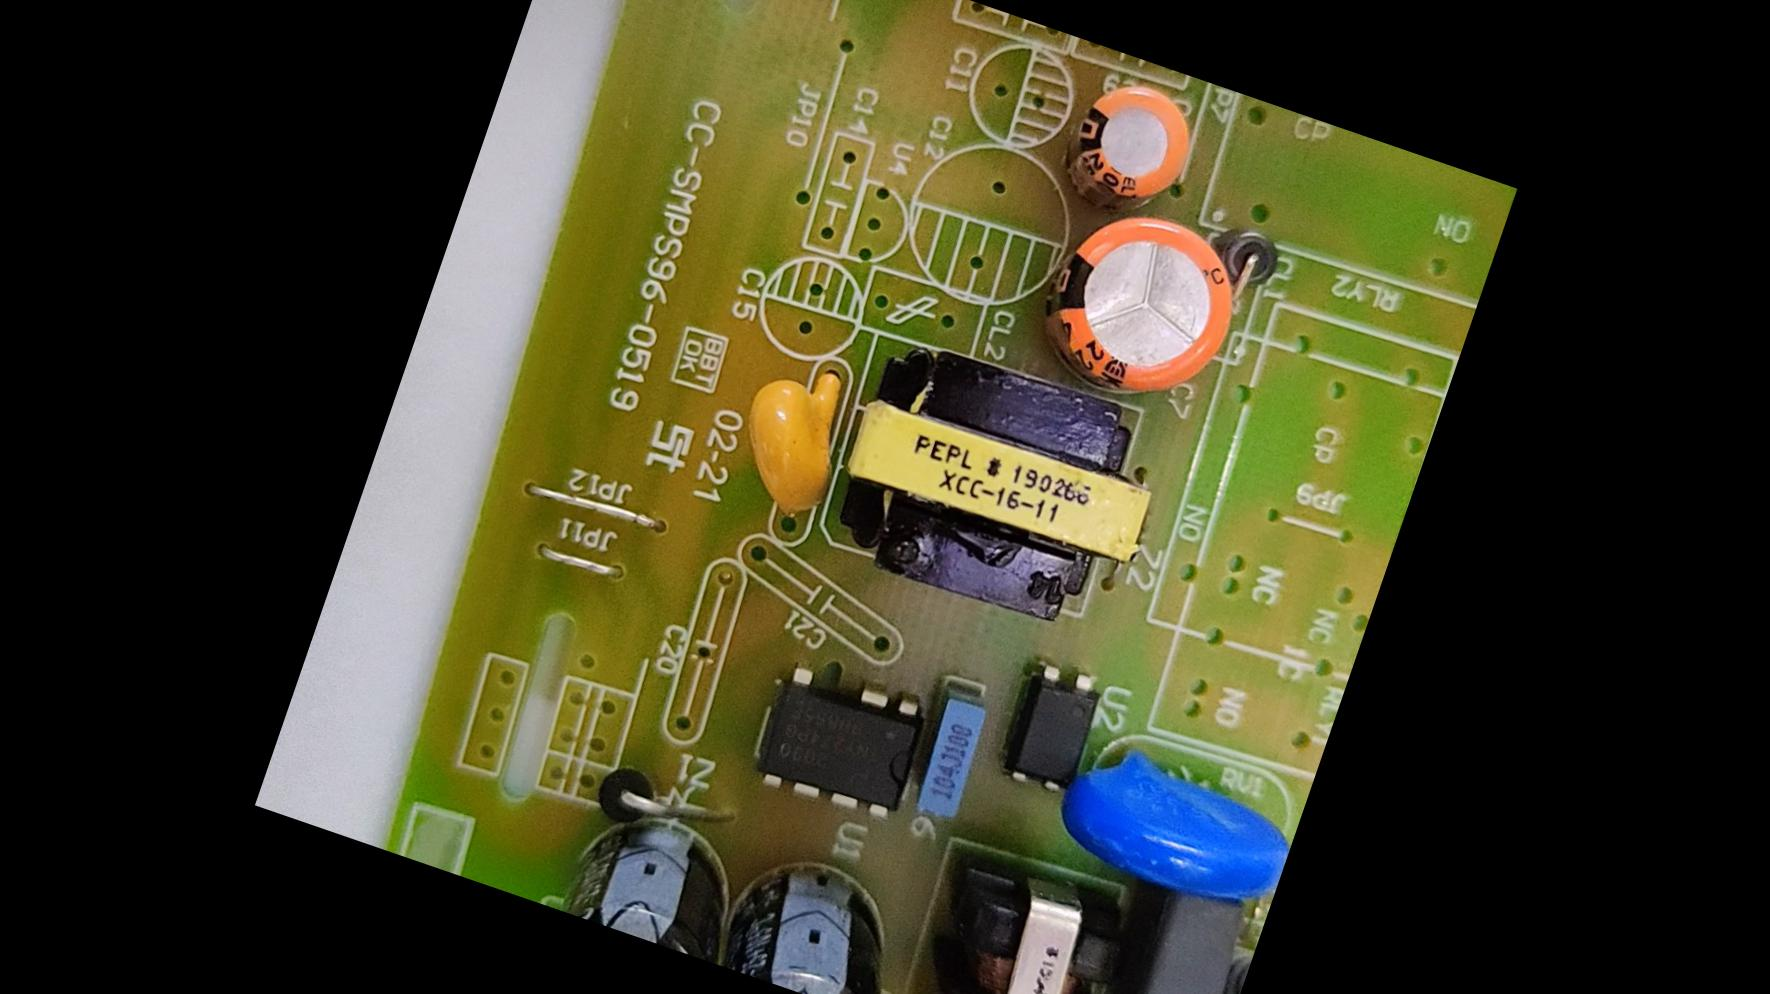Cap1: (1009, 177, 1266, 420)
Cap2: (1045, 64, 1213, 226)
Cap3: (718, 830, 945, 993)
Cap4: (549, 786, 761, 965)
MOSFET: (744, 648, 931, 835)
Mov: (1035, 728, 1304, 924)
Resistor: (1205, 930, 1259, 993)
Transformer: (804, 322, 1178, 656), (912, 862, 1144, 993)
